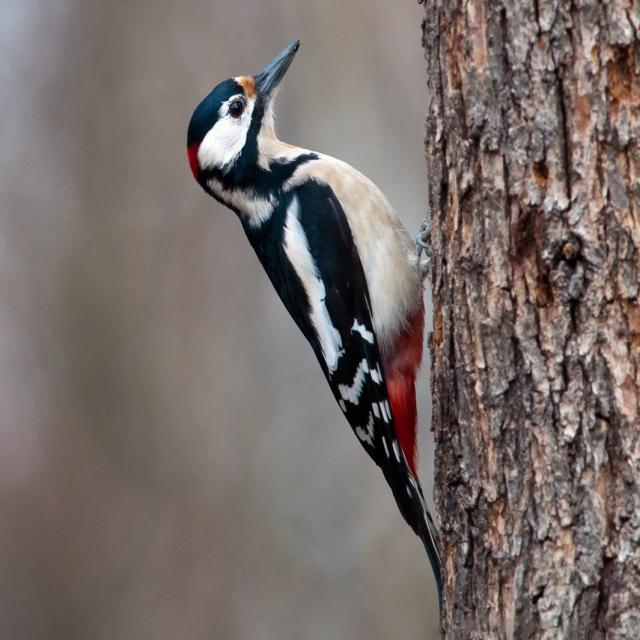Woodpecker: (186, 30, 474, 562)
